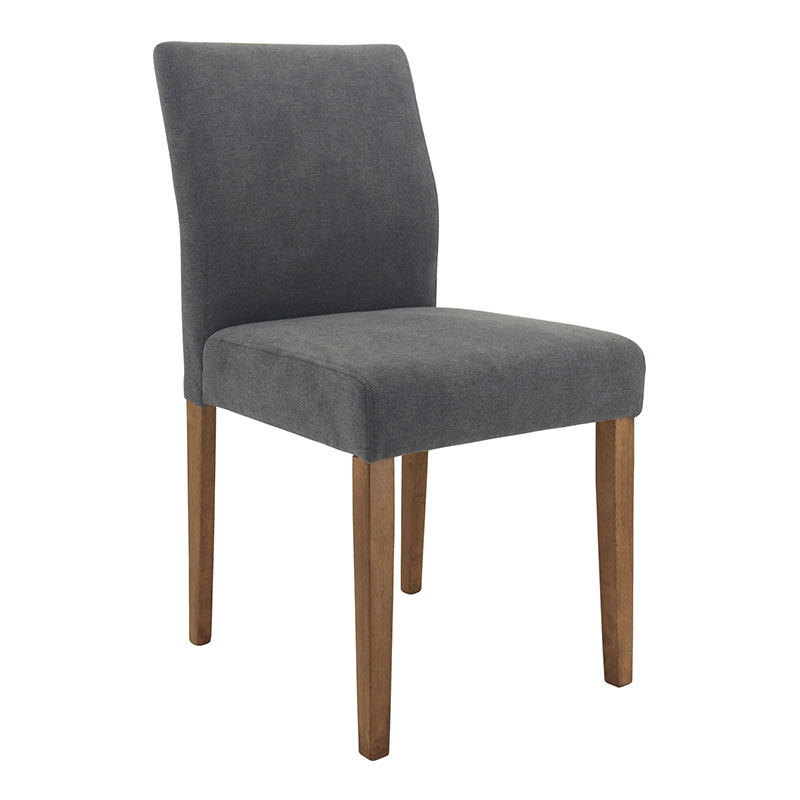chair: (122, 33, 727, 771)
